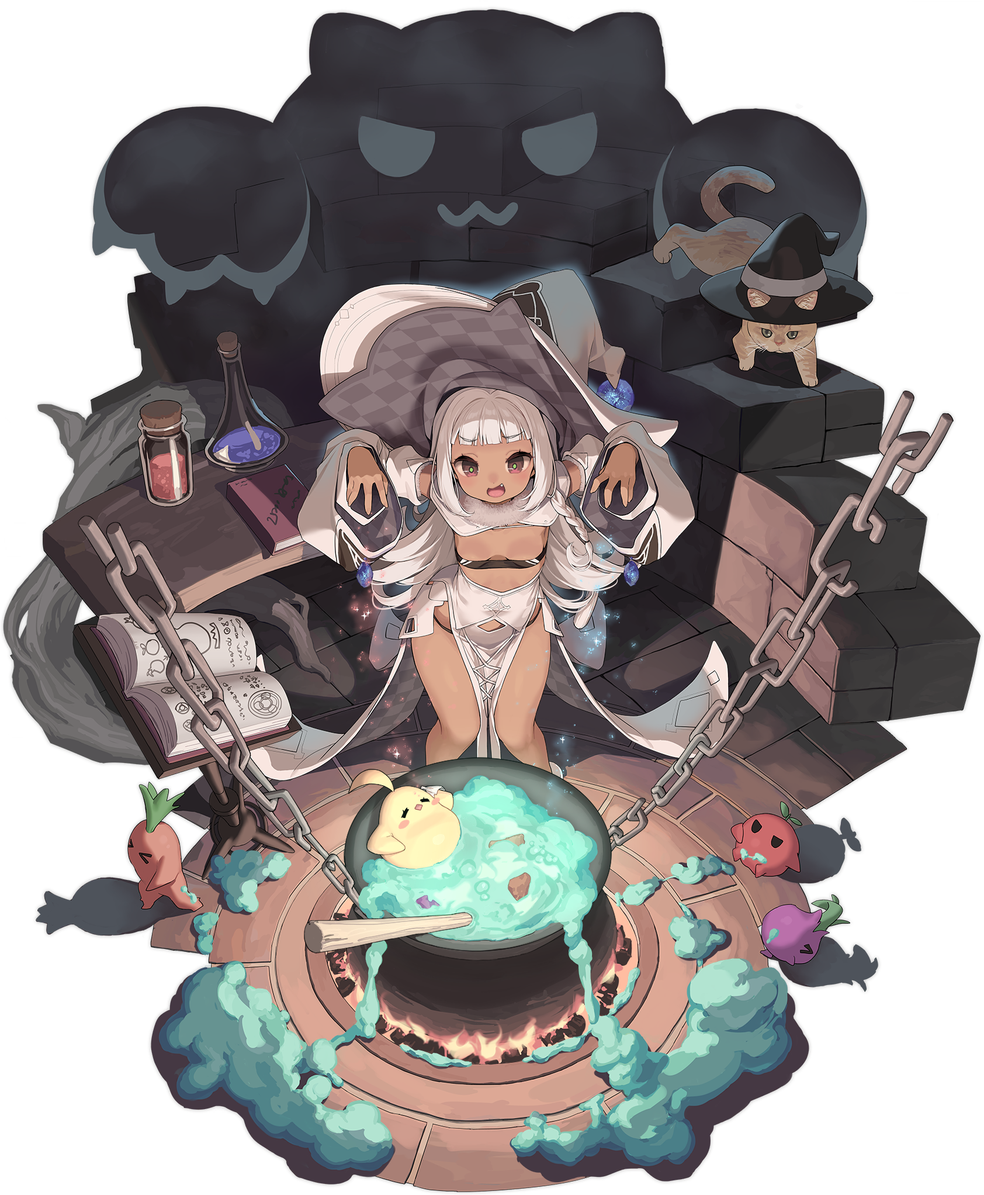person: (30, 261, 869, 1191)
